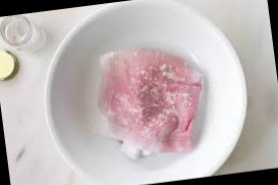wine: (97, 59, 206, 151)
